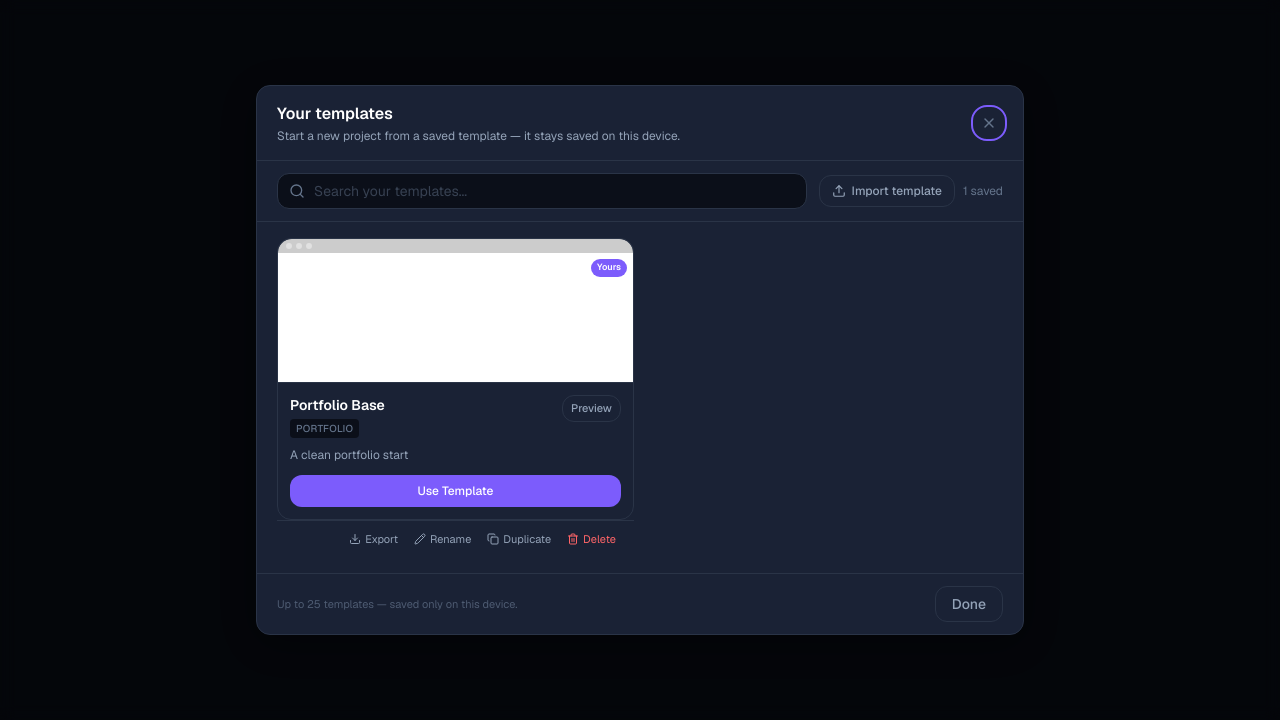
Test: PersonalTemplatesPanel › renames a template through the service
This screenshot has width=1280, height=720.
Expected: the number of elements with test id "personal-template-card" is 1, [277,238,634,557]
Click the button with aria-label "Rename Portfolio Base".
click(443, 539)  # box [408,527,477,551]
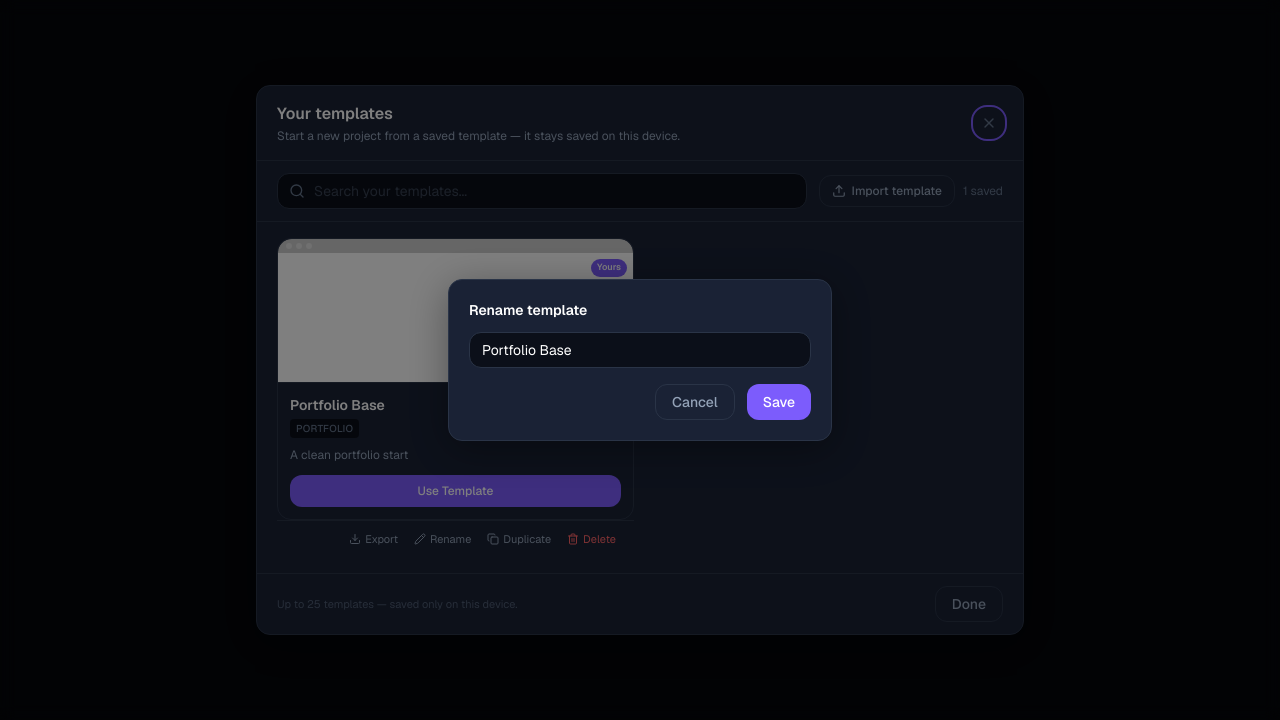
Replace the text in the field named "Template name" with "My New Template" at (640, 350), box [469,332,811,368]
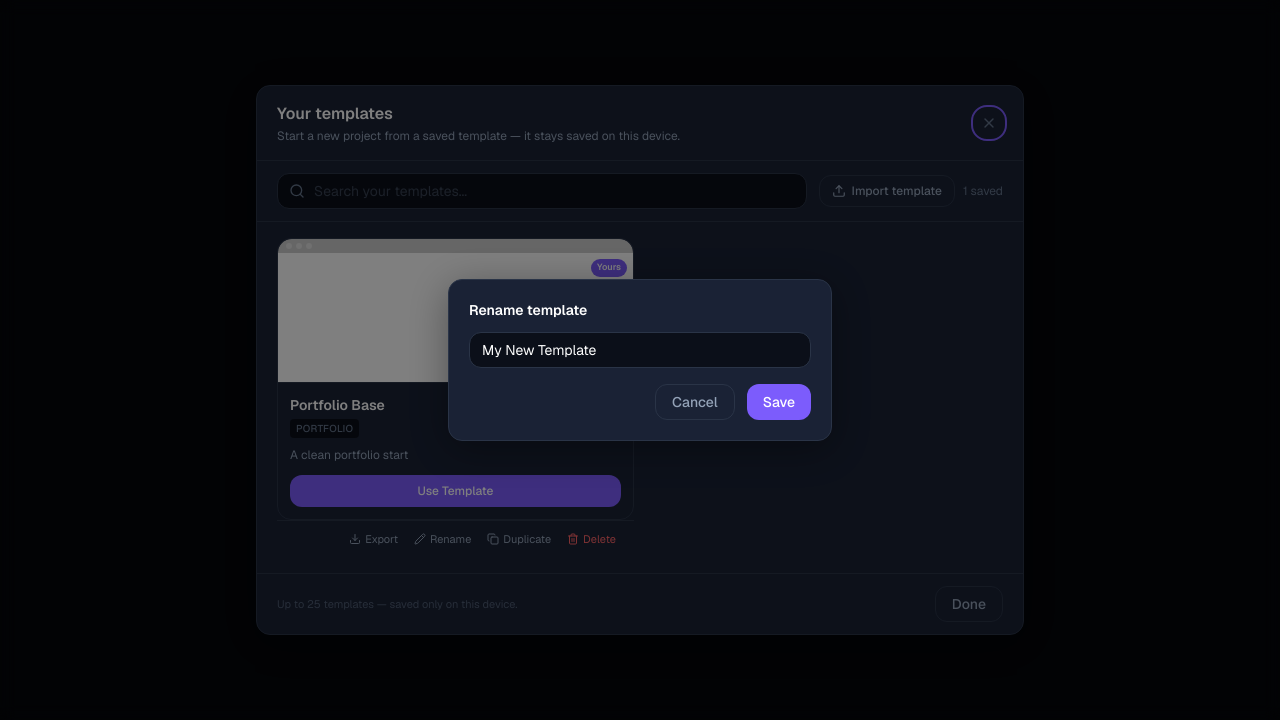
Click the button "Save".
click(779, 402)  # box [747,384,811,420]
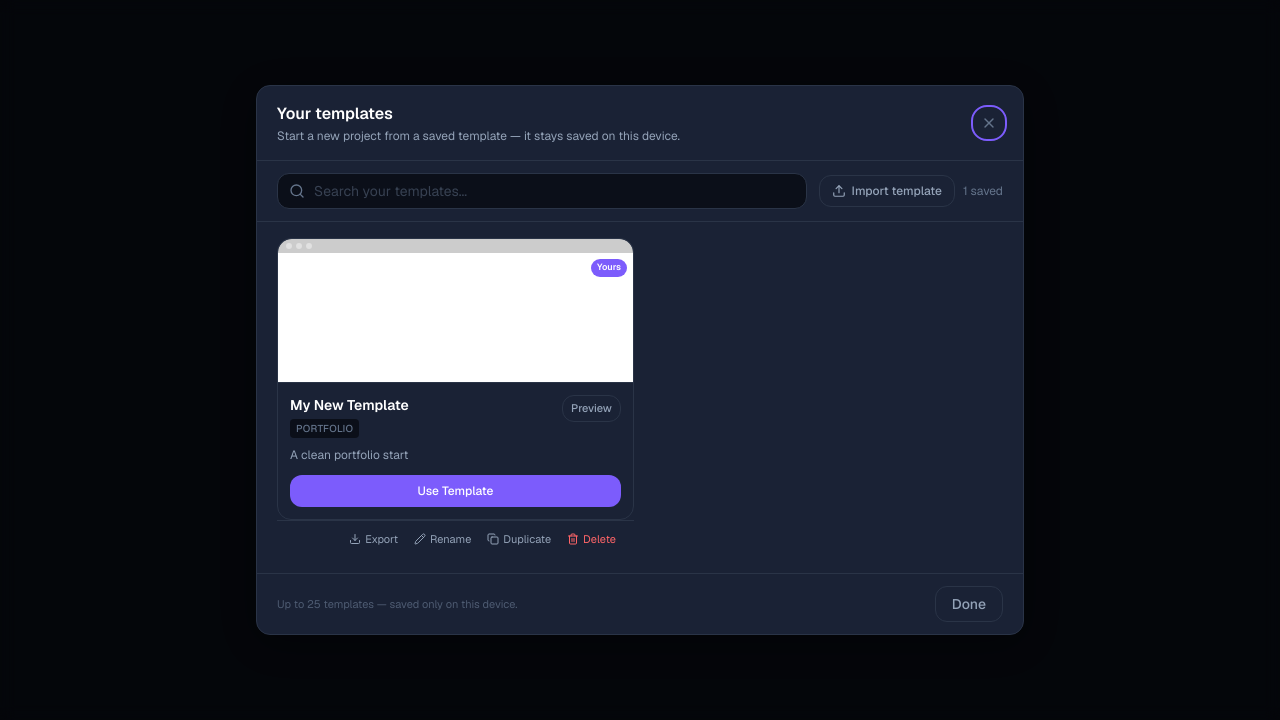
Expected: the heading "My New Template" is shown, [290,395,409,415]
